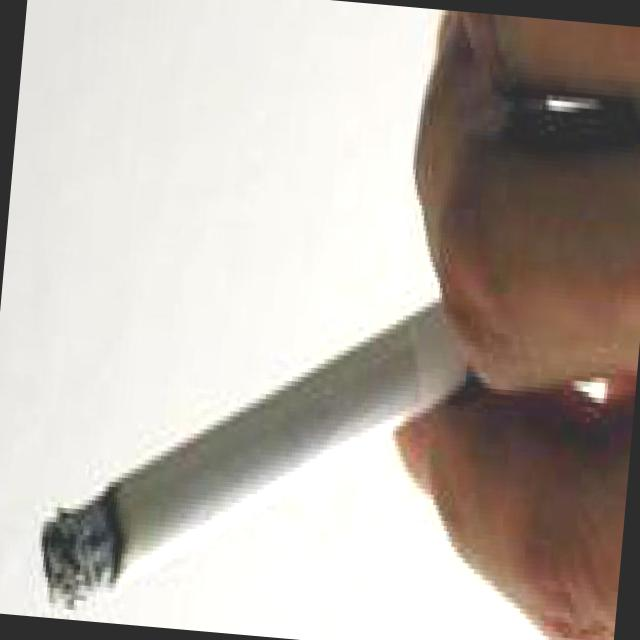smoke: (25, 269, 496, 640)
